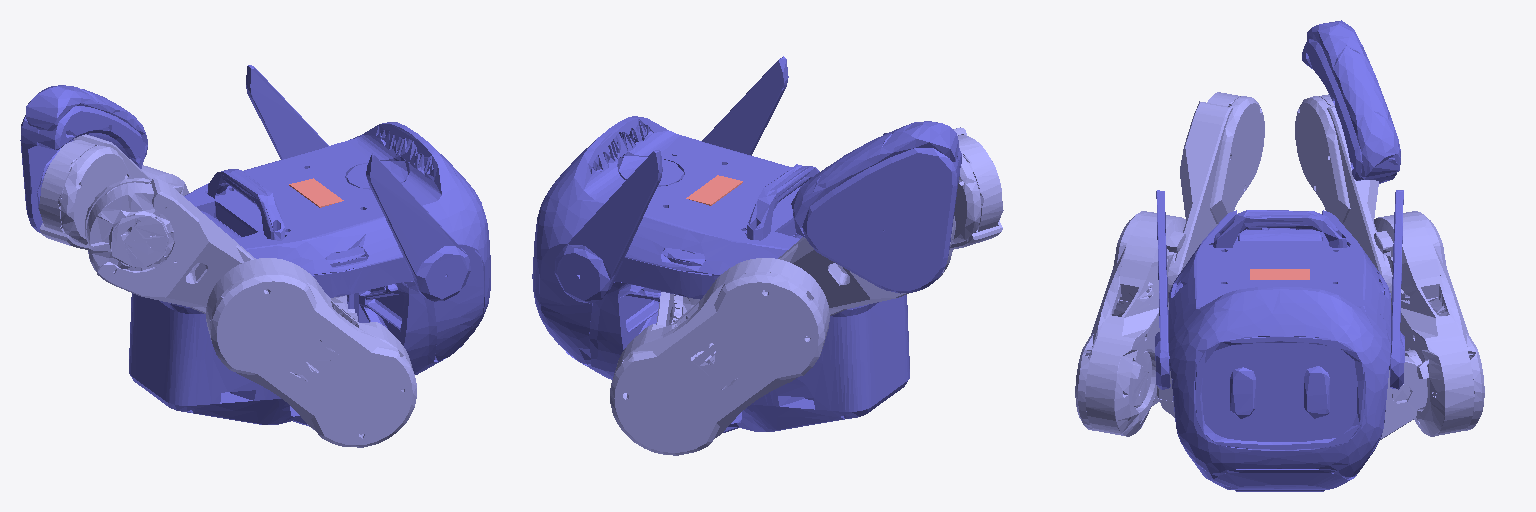
robot.urdf — YSXSZ:
<?xml version="1.0" encoding="utf-8"?>
<!--
Copyright (c) [2025] [Shandong University, [author], [author], [author],
[author], [author], [author], and [author]]

Permission is hereby granted, free of charge, to any person obtaining a copy
of this software and associated documentation files (the "Software"), to deal
in the Software without restriction, including without limitation the rights
to use, copy, modify, merge, publish, distribute, sublicense, and/or sell
copies of the Software, and to permit persons to whom the Software is
furnished to do so, subject to the following conditions:

The above copyright notice and this permission notice shall be included in all
copies or substantial portions of the Software.

THE SOFTWARE IS PROVIDED "AS IS", WITHOUT WARRANTY OF ANY KIND, EXPRESS OR
IMPLIED, INCLUDING BUT NOT LIMITED TO THE WARRANTIES OF MERCHANTABILITY,
FITNESS FOR A PARTICULAR PURPOSE AND NONINFRINGEMENT. IN NO EVENT SHALL THE
AUTHORS OR COPYRIGHT [author] ANY CLAIM, DAMAGES OR OTHER
LIABILITY, WHETHER IN AN ACTION OF CONTRACT, TORT OR OTHERWISE, ARISING FROM,
OUT OF OR IN CONNECTION WITH THE SOFTWARE OR THE USE OR OTHER DEALINGS IN THE
SOFTWARE.
-->
<!-- This URDF was automatically created by SolidWorks to URDF Exporter! Originally created by [author] ([email redacted]) 
     Commit Version: 1.6.0-4-g7f85cfe  Build Version: 1.6.7995.38578
     For more information, please see http://wiki.ros.org/sw_urdf_exporter -->
<robot name="YSXSZ">
  <material name="purple">
        <color rgba="0.7 0.7 1. 1.0"/>
  </material>
  <material name="blue">
        <color rgba="0.6 0.6 0.9 1"/>
  </material>
  <material name="pink">
        <color rgba="1. 0.6 0.6 1.0"/>
  </material>
   <material name="light_blue">
        <color rgba="0.5 0.5 0.93 1.0"/>
  </material>
  <link name="trunk">
    <inertial>
      <origin xyz="0.0 0.0 0.0" rpy="0 0 0"/>
      <mass value="1e-09"/>
      <inertia ixx="0.0" iyy="0.0" izz="0.0" ixy="0.0" iyz="0.0" ixz="0.0"/>
    </inertial>
  </link>
  <link
    name="base_link">
    <inertial>
      <origin
        xyz="0.02 5.6E-05 -0.041502"
        rpy="0 0 0" />
      <mass
        value="4.7754"/>
      <inertia
        ixx="0.026652"
        ixy="-6E-06"
        ixz="-0.006659"
        iyy="0.04973"
        iyz="-9E-06"
        izz="0.049037"/>
    </inertial>
    <visual>
      <origin
        xyz="0 0 0"
        rpy="0 0 0" />
      <geometry>
        <mesh
          filename="assets/base_link.stl" />
      </geometry>
      <material name="light_blue"/>
    </visual>
    <collision>
      <origin
        xyz="0 0 0"
        rpy="0 0 0" />
      <geometry>
        <mesh
          filename="assets/base_link.stl" />
      </geometry>
      <material name="light_blue"/>
    </collision>
  </link>

 <!-- IMU -->
  <joint name="imu_in_torso_joint" type="fixed" dont_collapse="true">
    <origin xyz="0.033 0. 0.015" rpy="0 0 0"/>
    <parent link="base_link"/>
    <child link="imu_in_torso"/>
  </joint>

  <link name="imu_in_torso">
    <visual>
      <origin xyz="0 0 0" rpy="0 0 0"/>
      <geometry>
        <box size="0.05 0.06 0.02"/>
      </geometry>
      <material name="pink"/>
    </visual>
  </link>


  <link
    name="left_hip_yaw_link">
    <inertial>
      <origin
        xyz="0.001558 0.000796 -0.10656"
        rpy="0 0 0" />
      <mass
        value="0.73407" />
      <inertia
        ixx="0.001096"
        ixy="1E-06"
        ixz="7E-06"
        iyy="0.000691"
        iyz="4E-06"
        izz="0.000544" />
    </inertial>
    <visual>
      <origin
        xyz="0 0 0"
        rpy="0 0 0" />
      <geometry>
        <mesh
          filename="assets/left_hip_yaw.stl" />
      </geometry>
     <material name="purple"/>
    </visual>
    <collision>
      <origin
        xyz="0 0 0"
        rpy="0 0 0" />
      <geometry>
        <mesh
          filename="assets/left_hip_yaw.stl" />
      </geometry>
    </collision>
  </link>
  <joint
    name="left_hip_yaw"
    type="revolute">
    <origin
      xyz="0 0.055 0"
      rpy="0 0 0.4" />
    <parent
      link="base_link" />
    <child
      link="left_hip_yaw_link" />
    <axis
      xyz="0 0 -1" />
    <dynamics damping="1" friction="0.01"/>
    <limit
      upper="0.7"
      lower="-0.1"
      effort="20"
      velocity="30"/>
  </joint>
  <link
    name="left_hip_roll_link">
    <inertial>
      <origin
        xyz="0.028723 -0.018625 1.5E-05"
        rpy="0 0 0" />
      <mass
        value="0.072409" />
      <inertia
        ixx="0.000148"
        ixy="1.6E-05"
        ixz="0"
        iyy="5.7E-05"
        iyz="0"
        izz="0.000112" />
    </inertial>
    <visual>
      <origin
        xyz="0 0 0"
        rpy="0 0 0" />
      <geometry>
        <mesh
          filename="assets/left_hip_roll.stl" />
      </geometry>
      <material name="purple"/>
    </visual>
    <collision>
      <origin
        xyz="0 0 0"
        rpy="0 0 0" />
      <geometry>
        <mesh
          filename="assets/left_hip_roll.stl" />
      </geometry>
    </collision>
  </link>
  <joint
    name="left_hip_roll"
    type="revolute">
    <origin
      xyz="0 0.054 -0.1073"
      rpy="0. 0 0" />
    <parent
      link="left_hip_yaw_link" />
    <child
      link="left_hip_roll_link" />
    <axis
      xyz="1 0 0" />
    <dynamics damping="1" friction="0.07"/>
    <limit
      upper="0.6"
      lower="-0.3"
      effort="60"
      velocity="10"/>
  </joint>
  <link
    name="left_hip_pitch_link">
    <inertial>
      <origin
        xyz="-0.040715 0.019181 -0.04067"
        rpy="0 0 0" />
      <mass
        value="1.4071" />
      <inertia
        ixx="0.003407"
        ixy="-6E-06"
        ixz="-0.002303"
        iyy="0.006531"
        iyz="-4E-06"
        izz="0.00343" />
    </inertial>
    <visual>
      <origin
        xyz="0 0 0"
        rpy="0 0 0" />
      <geometry>
        <mesh
          filename="assets/left_hip_pitch.stl" />
      </geometry>
          <material name="purple"/>

    </visual>
    <collision>
      <origin
        xyz="0 0 0"
        rpy="0 0 0" />
      <geometry>
        <mesh
          filename="assets/left_hip_pitch.stl" />
      </geometry>
    </collision>
  </link>
  <joint
    name="left_hip_pitch"
    type="revolute">
    <origin
      xyz="0.0165 0.028 0"
      rpy="0 1.5 0" />
    <parent
      link="left_hip_roll_link" />
    <child
      link="left_hip_pitch_link" />
    <axis
      xyz="0 1 0" />
    <dynamics damping="0.4" friction="0.03"/>
    <limit
      upper="0."
      lower="-2.1"
      effort="20"
      velocity="30"/>
  </joint>
  <link
    name="left_knee_link">
    <inertial>
      <origin
        xyz="0.048081 0.002331 -0.13228"
        rpy="0 0 0" />
      <mass
        value="0.76749" />
      <inertia
        ixx="0.001333"
        ixy="-2.6E-05"
        ixz="0.000282"
        iyy="0.001852"
        iyz="7E-05"
        izz="0.000662" />
    </inertial>
    <visual>
      <origin
        xyz="0 0 0"
        rpy="0 0 0" />
      <geometry>
        <mesh
          filename="assets/left_knee.stl" />
      </geometry>
         <material name="purple"/>

    </visual>
    <collision>
      <origin
        xyz="0 0 0"
        rpy="0 0 0" />
      <geometry>
        <mesh
          filename="assets/left_knee.stl" />
      </geometry>
    </collision>
  </link>
  <joint
    name="left_knee"
    type="revolute">
    <origin
      xyz="-0.081317 -0.0003 -0.081317"
      rpy="0 1.05 0" />
    <parent
      link="left_hip_pitch_link" />
    <child
      link="left_knee_link" />
    <axis
      xyz="0 -1 0" />
    <dynamics damping="1" friction="0.01"/>
    <limit
      upper="2.1"
      lower="-0."
      effort="20"
      velocity="30" />
  </joint>
  <link
    name="left_ankle_link">
    <inertial>
      <origin
        xyz="0.013735 -0.006344 -0.045775"
        rpy="0 0 0" />
      <mass
        value="0.2038" />
      <inertia
        ixx="0.000225"
        ixy="1.1E-05"
        ixz="0"
        iyy="0.000653"
        iyz="-4E-05"
        izz="0.000505" />
    </inertial>
    <visual>
      <origin
        xyz="0 0 0"
        rpy="0 0 0" />
      <geometry>
        <mesh
          filename="assets/left_ankle.stl" />
      </geometry>
          <material name="light_blue"/>

    </visual>
    <collision>
      <origin
        xyz="0 0 0"
        rpy="0 0 0" />
      <geometry>
        <mesh
          filename="assets/left_ankle.stl" />
      </geometry>
    </collision>
  </link>
  <joint
    name="left_ankle"
    type="revolute">
    <origin
      xyz="0.053013 0.0228 -0.14565"
      rpy="0 1.22 0" />
    <parent
      link="left_knee_link" />
    <child
      link="left_ankle_link" />
    <axis
      xyz="0 1 0" />
    <dynamics damping="0.8" friction="0.01"/>
    <limit
      upper="0."
      lower="-2.5"
      effort="20"
      velocity="30" />
  </joint>
  <link name="left_foot">
    <inertial>
      <origin xyz="0 0 0" rpy="0 0 0" />
      <mass value="1e-9" />
      <inertia ixx="0" ixy="0" ixz="0" iyy="0" iyz="0" izz="0" />
    </inertial>
  </link>
  <joint name="left_foot_frame" type="fixed">
      <origin xyz="0.0 0.0 -0.09" rpy="0 0 0" />
      <parent link="left_ankle_link" />
      <child link="left_foot" />
      <axis xyz="0 0 0"/>
  </joint>

  <link
    name="right_hip_yaw_link">
    <inertial>
      <origin
        xyz="0.001558 -0.000796 -0.10656"
        rpy="0 0 0" />
      <mass
        value="0.73407" />
      <inertia
        ixx="0.001096"
        ixy="-1E-06"
        ixz="7E-06"
        iyy="0.000691"
        iyz="-4E-06"
        izz="0.000544" />
    </inertial>
    <visual>
      <origin
        xyz="0 0 0"
        rpy="0 0 0" />
      <geometry>
        <mesh
          filename="assets/right_hip_yaw.stl" />
      </geometry>
          <material name="purple"/>

    </visual>
    <collision>
      <origin
        xyz="0 0 0"
        rpy="0 0 0" />
      <geometry>
        <mesh
          filename="assets/right_hip_yaw.stl" />
      </geometry>
    </collision>
  </link>
  <joint
    name="right_hip_yaw"
    type="revolute">
    <origin
      xyz="0 -0.055 0"
      rpy="0 0 -0.4" />
    <parent
      link="base_link" />
    <child
      link="right_hip_yaw_link" />
    <axis
      xyz="0 0 -1" />
    <dynamics damping="1" friction="0.01"/>
    <limit
      upper="0.1"
      lower="-0.7"
      effort="20"
      velocity="30" />
  </joint>
  <link
    name="right_hip_roll_link">
    <inertial>
      <origin
        xyz="0.028723 0.018625 1.5E-05"
        rpy="0 0 0" />
      <mass
        value="0.072409" />
      <inertia
        ixx="0.000148"
        ixy="-1.6E-05"
        ixz="0"
        iyy="5.7E-05"
        iyz="0"
        izz="0.000112" />
    </inertial>
    <visual>
      <origin
        xyz="0 0 0"
        rpy="0 0 0" />
      <geometry>
        <mesh
          filename="assets/right_hip_roll.stl" />
      </geometry>
           <material name="purple"/>

    </visual>
    <collision>
      <origin
        xyz="0 0 0"
        rpy="0 0 0" />
      <geometry>
        <mesh
          filename="assets/right_hip_roll.stl" />
      </geometry>
    </collision>
  </link>
  <joint
    name="right_hip_roll"
    type="revolute">
    <origin
      xyz="0 -0.054 -0.1073"
      rpy="-0. 0 0" />
    <parent
      link="right_hip_yaw_link" />
    <child
      link="right_hip_roll_link" />
    <axis
      xyz="1 0 0" />
    <dynamics damping="1" friction="0.07"/>
    <limit
      upper="0.3"
      lower="-0.6"
      effort="60"
      velocity="10" />
  </joint>
  <link
    name="right_hip_pitch_link">
    <inertial>
      <origin
        xyz="-0.040715 -0.019181 -0.04067"
        rpy="0 0 0" />
      <mass
        value="1.4071" />
      <inertia
        ixx="0.003407"
        ixy="6E-06"
        ixz="-0.002303"
        iyy="0.006531"
        iyz="4E-06"
        izz="0.00343" />
    </inertial>
    <visual>
      <origin
        xyz="0 0 0"
        rpy="0 0 0" />
      <geometry>
        <mesh
          filename="assets/right_hip_pitch.stl" />
      </geometry>
           <material name="purple"/>

    </visual>
    <collision>
      <origin
        xyz="0 0 0"
        rpy="0 0 0" />
      <geometry>
        <mesh
          filename="assets/right_hip_pitch.stl" />
      </geometry>
    </collision>
  </link>
  <joint
    name="right_hip_pitch"
    type="revolute">
    <origin
      xyz="0.0165 -0.028 0"
      rpy="0 1.5 0" />
    <parent
      link="right_hip_roll_link" />
    <child
      link="right_hip_pitch_link" />
    <axis
      xyz="0 -1 0" />
    <dynamics damping="0.4" friction="0.03"/>
    <limit
      upper="2.1"
      lower="0."
      effort="20"
      velocity="30" />
  </joint>
  <link
    name="right_knee_link">
    <inertial>
      <origin
        xyz="0.048081 -0.002331 -0.13228"
        rpy="0 0 0" />
      <mass
        value="0.76749" />
      <inertia
        ixx="0.001333"
        ixy="2.6E-05"
        ixz="0.000282"
        iyy="0.001852"
        iyz="-7E-05"
        izz="0.000662" />
    </inertial>
    <visual>
      <origin
        xyz="0 0 0"
        rpy="0 0 0" />
      <geometry>
        <mesh
          filename="assets/right_knee.stl" />
      </geometry>
          <material name="purple"/>

    </visual>
    <collision>
      <origin
        xyz="0 0 0"
        rpy="0 0 0" />
      <geometry>
        <mesh
          filename="assets/right_knee.stl" />
      </geometry>
    </collision>
  </link>
  <joint
    name="right_knee"
    type="revolute">
    <origin
      xyz="-0.081317 0.0003 -0.081317"
      rpy="0 1.05 0" />
    <parent
      link="right_hip_pitch_link" />
    <child
      link="right_knee_link" />
    <axis
      xyz="0 1 0" />
    <dynamics damping="1" friction="0.01"/>
    <limit
      upper="0."
      lower="-2.1"
      effort="20"
      velocity="30" />
  </joint>
  <link
    name="right_ankle_link">
    <inertial>
      <origin
        xyz="0.013735 0.006344 -0.045775"
        rpy="0 0 0" />
      <mass
        value="0.2038" />
      <inertia
        ixx="0.000225"
        ixy="-1.1E-05"
        ixz="0"
        iyy="0.000653"
        iyz="4E-05"
        izz="0.000505" />
    </inertial>
    <visual>
      <origin
        xyz="0 0 0"
        rpy="0 0 0" />
      <geometry>
        <mesh
          filename="assets/right_ankle.stl" />
      </geometry>
           <material name="light_blue"/>

    </visual>
    <collision>
      <origin
        xyz="0 0 0"
        rpy="0 0 0" />
      <geometry>
        <mesh
          filename="assets/right_ankle.stl" />
      </geometry>
    </collision>
  </link>
  <joint
    name="right_ankle"
    type="revolute">
    <origin
      xyz="0.053013 -0.0228 -0.14565"
      rpy="0 1.22 0" />
    <parent
      link="right_knee_link" />
    <child
      link="right_ankle_link" />
    <axis
      xyz="0 -1 0" />
    <dynamics damping="0.8" friction="0.01"/>
    <limit
      upper="2.5"
      lower="0."
      effort="20"
      velocity="30" />
  </joint>
  <link name="right_foot">
    <inertial>
      <origin xyz="0 0 0" rpy="0 0 0" />
      <mass value="1e-9" />
      <inertia ixx="0" ixy="0" ixz="0" iyy="0" iyz="0" izz="0" />
    </inertial>
  </link>
  <joint name="right_foot_frame" type="fixed">
      <origin xyz="0.0 0.0 -0.09" rpy="0 0 0" />
      <parent link="right_ankle_link" />
      <child link="right_foot" />
      <axis xyz="0 0 0"/>
  </joint>
  <joint name="trunk_frame" type="fixed">
    <origin xyz="0.0 0.0 0.0" rpy="0 0 0"/>
    <parent link="base_link"/>
    <child link="trunk"/>
    <axis xyz="0.0 0.0 0.0"/>
  </joint>
</robot>

--- What the picture shows (computed from the rendered views, not written in the file) ---
The picture shows the robot from 3 angles, left to right: view 1: azimuth 30°, elevation 25°; view 2: azimuth 150°, elevation 25°; view 3: azimuth 270°, elevation 25°; orthographic projection.
Robot: YSXSZ — 15 links, 14 joints (10 revolute, 4 fixed); root link base_link; default pose: every joint at zero.
Visible links, largest first — view 1: base_link, right_hip_pitch_link, right_knee_link, left_ankle_link, left_knee_link, imu_in_torso, left_hip_pitch_link; view 2: base_link, left_hip_pitch_link, left_ankle_link, right_knee_link, left_knee_link, imu_in_torso, left_hip_roll_link; view 3: base_link, right_hip_pitch_link, left_hip_pitch_link, right_knee_link, left_ankle_link, left_knee_link, left_hip_roll_link, imu_in_torso.
Boxes of the visible links, <box> form: base_link: <box>129,65,490,426</box>; right_hip_pitch_link: <box>206,258,416,447</box>; right_knee_link: <box>85,178,255,313</box>; left_ankle_link: <box>20,85,147,232</box>; left_knee_link: <box>39,134,151,250</box>; imu_in_torso: <box>289,178,343,207</box>; left_hip_pitch_link: <box>88,165,188,270</box>; base_link: <box>532,56,909,432</box>; left_hip_pitch_link: <box>610,258,829,455</box>; left_ankle_link: <box>791,121,961,293</box>; right_knee_link: <box>950,127,1003,249</box>; left_knee_link: <box>778,216,955,315</box>; imu_in_torso: <box>686,175,742,205</box>; left_hip_roll_link: <box>656,292,682,325</box>; base_link: <box>1155,190,1404,491</box>; right_hip_pitch_link: <box>1075,211,1185,436</box>; left_hip_pitch_link: <box>1374,211,1484,436</box>; right_knee_link: <box>1167,92,1264,302</box>; left_ankle_link: <box>1302,20,1400,183</box>; left_knee_link: <box>1295,94,1392,302</box>; left_hip_roll_link: <box>1380,350,1427,439</box>; imu_in_torso: <box>1250,269,1309,279</box>.
Size in the robot's own frame: 0.4489 by 0.4042 by 0.3717 metres.
9 mesh visuals loaded from 11 distinct referenced files (9 binary STL); not drawn: 2 (reference not matched to a file when rendering).